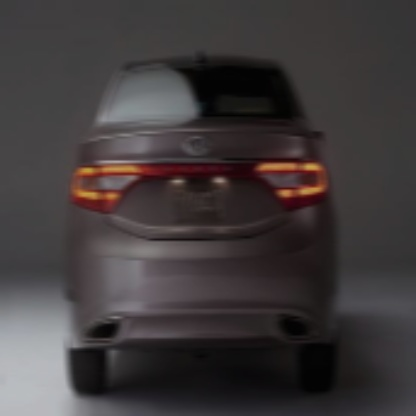Vehicle: (63, 48, 338, 395)
